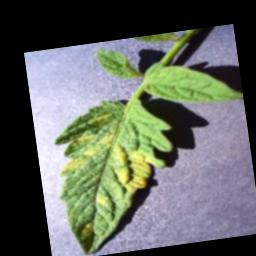Leaf_Mold: (52, 127, 159, 205), (68, 134, 94, 148), (90, 112, 114, 126), (81, 222, 95, 238), (95, 192, 109, 207)
